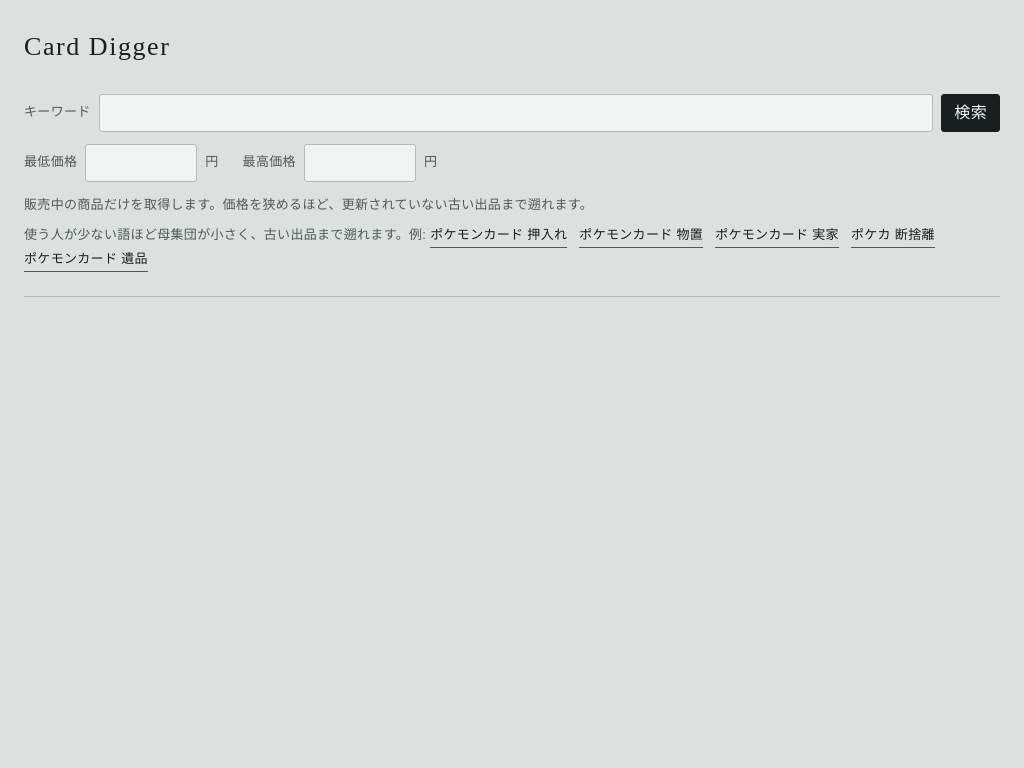
Scenario: starting a search › does not mix a failed search with the previous result
This screenshot has width=1024, height=768.
Type "ポケカ" into the field labelled "キーワード" at {"x": 516, "y": 112}, box [99,94,933,132]
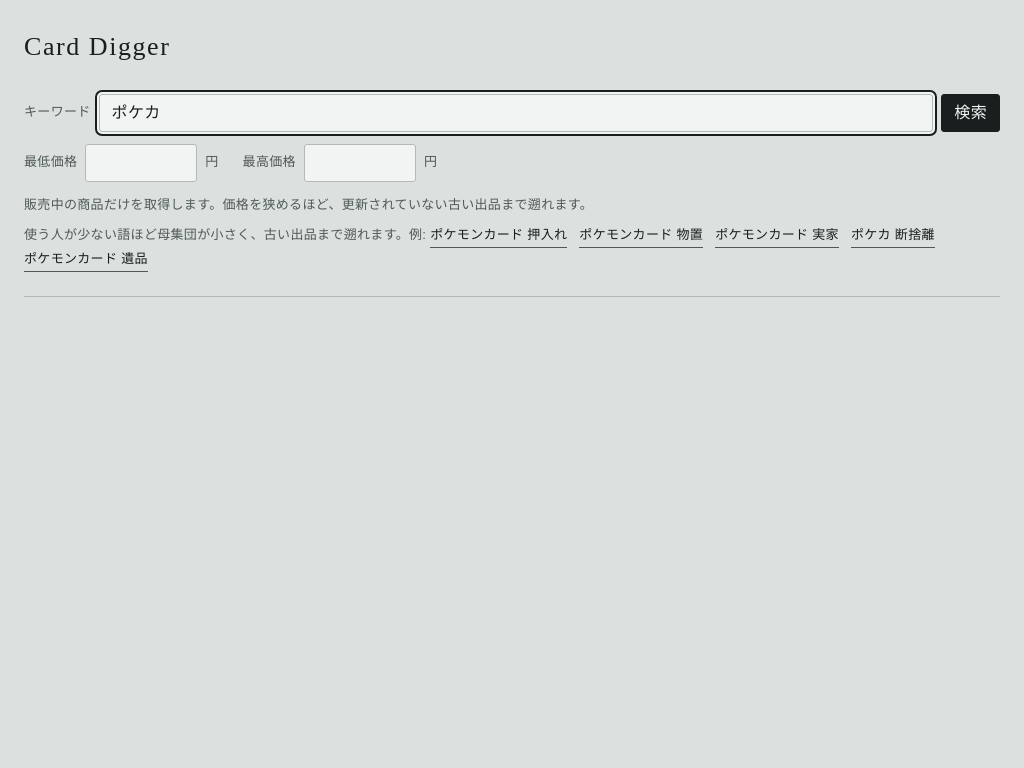
Click the button "検索" at {"x": 971, "y": 112}, box [941,94,1000,132]
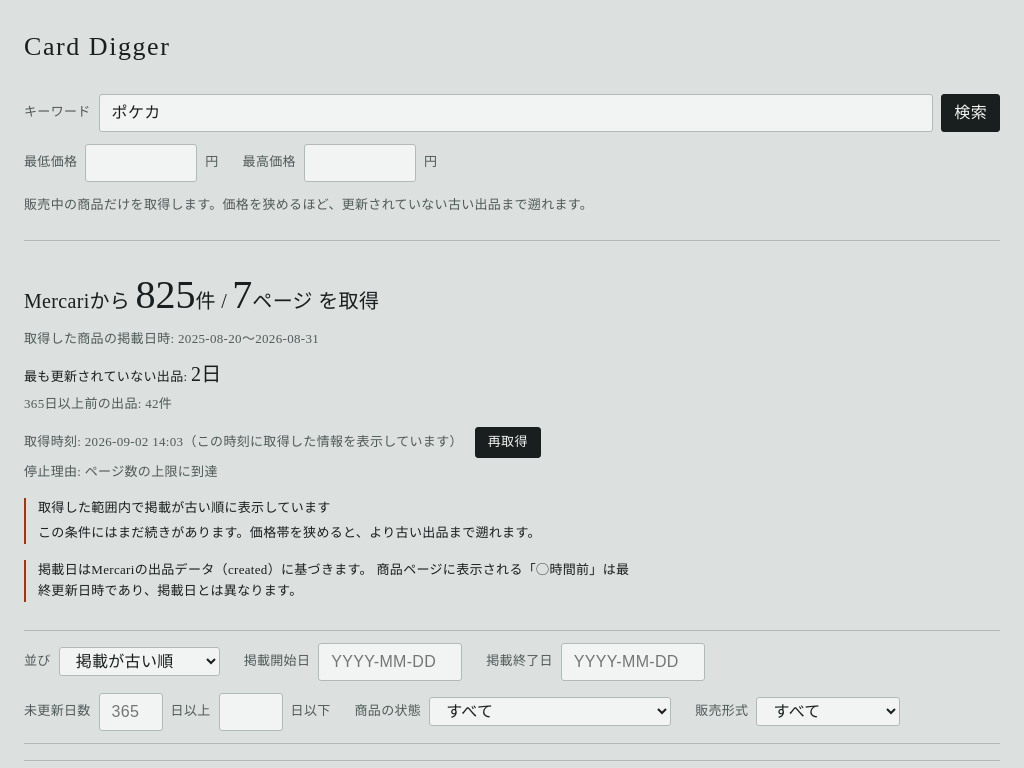
Now the element named "取得範囲" is shown, box [24,241,632,630]
Click the button "検索" at {"x": 971, "y": 112}, box [941,94,1000,132]
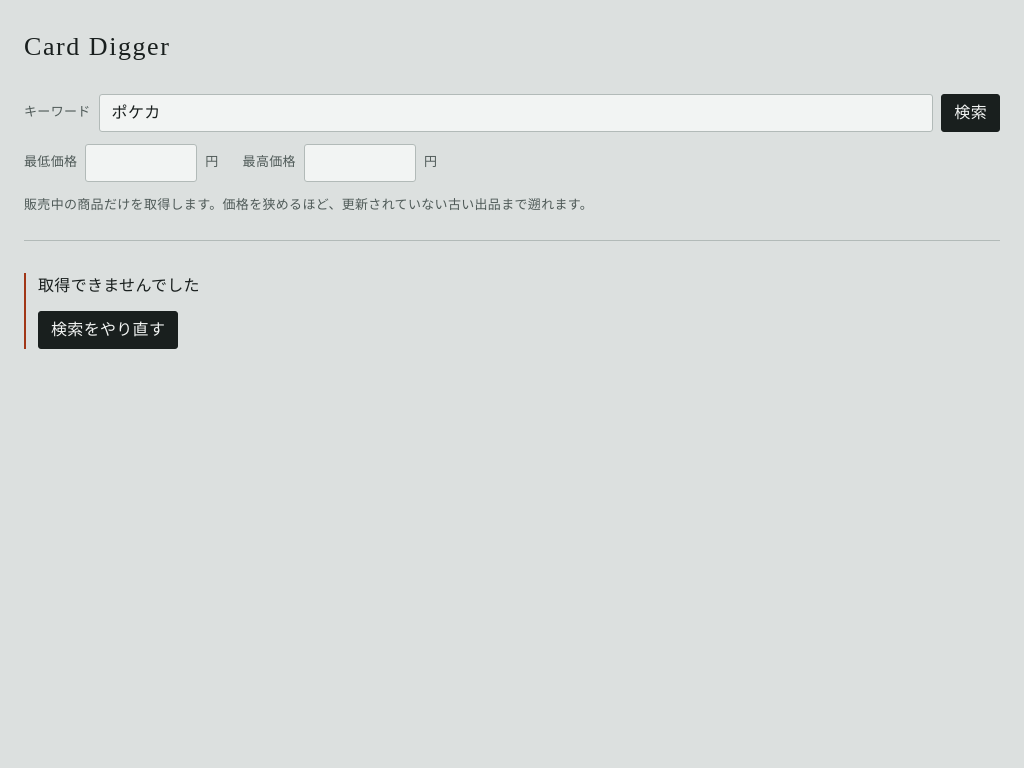
Now the message "取得できませんでした 検索をやり直す" is shown, box [24,273,632,349]
Now the field labelled "取得範囲" is gone
